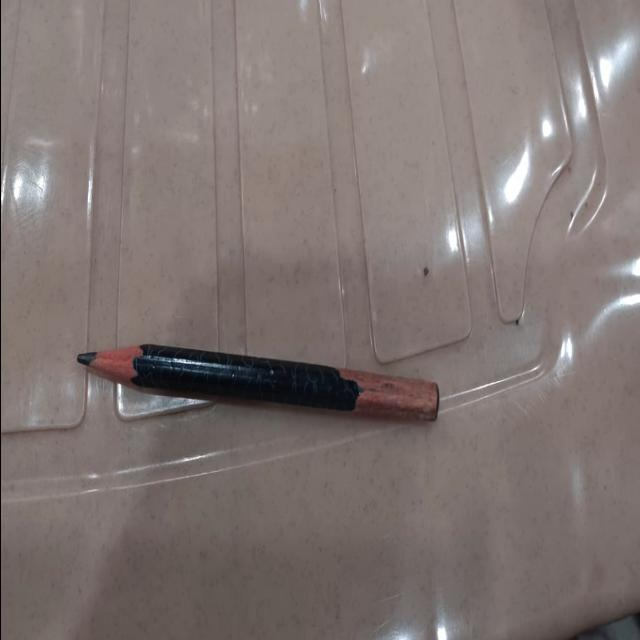Pencil-Bio: (67, 332, 441, 422)
